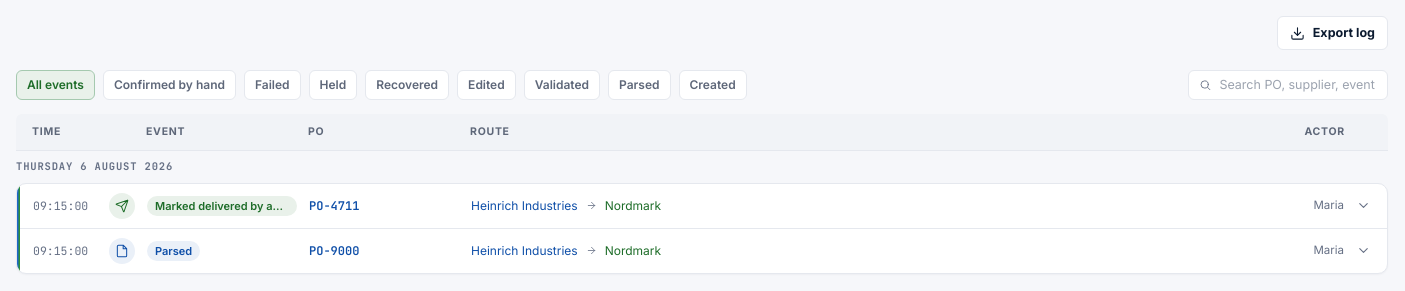
the delivery log's filter chips › the renamed chip really does select the delivered kind
Expected: the text "PO-4711" is shown, [309, 198, 359, 214]
Expected: the text "PO-9000" is shown, [309, 242, 359, 258]
Click the button "Confirmed by hand".
click(169, 85)  # box [103, 70, 236, 100]
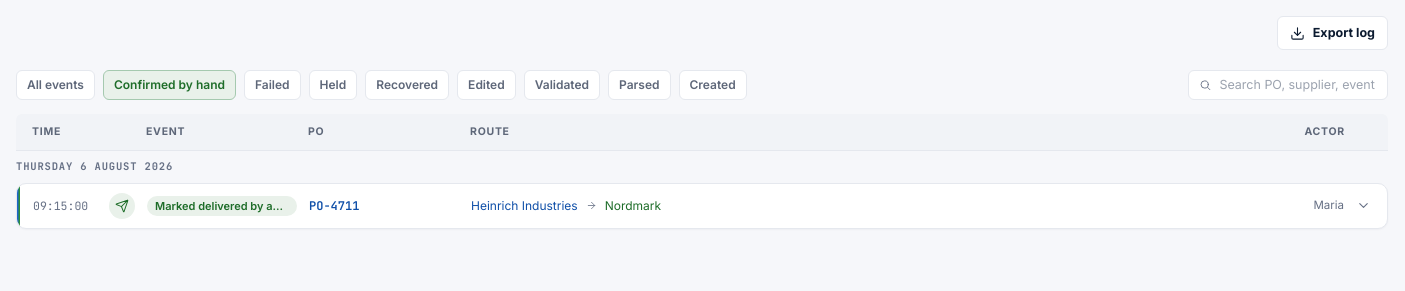
Expected: the text "PO-4711" is shown, [309, 198, 359, 214]
Now the button "PO-9000" is gone
